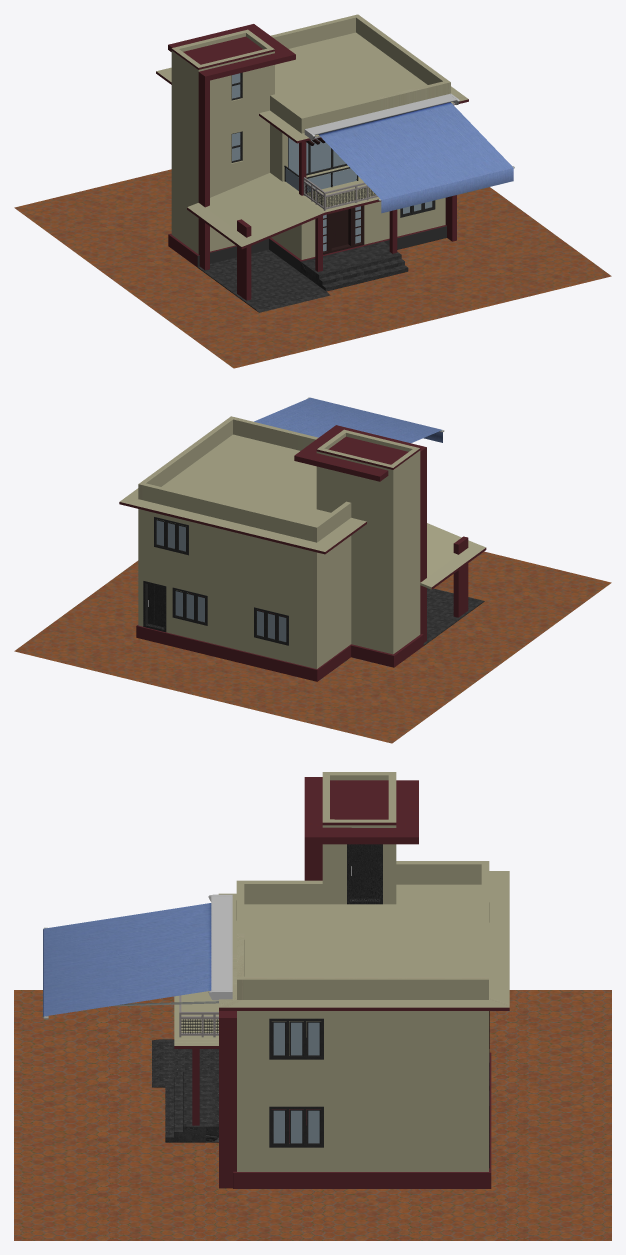
Rendered from iot2-transformed.glb.
3 renders of one model, top to bottom at view 1: azimuth 30°, elevation 25°; view 2: azimuth 150°, elevation 25°; view 3: azimuth 270°, elevation 25°, orthographic. The views are drawn at different scales.
Visible parts, largest first — view 1: Plane_landscape tiles_0, Plane.008_wall paint_0, Object_2, shade 02_shades brown_0, Cube.047_ floor Ceramic Black Tiles _0, Cube.046_ floor Ceramic Black Tiles _0, Plane.008_shades brown_0, Cube.045_ floor Ceramic Black Tiles _0, Cube.064_Multicoated glass_0, piller 1_shades brown_0, Cube.045_shades brown_0, Cube.044_hand railBrushed stainless steel_0 (+3 smaller); view 2: Plane.008_wall paint_0, Plane_landscape tiles_0, shade 02_shades brown_0, Object_2, Cube.045_shades brown_0, Cube.047_ floor Ceramic Black Tiles _0, Plane.008_shades brown_0, piller 1_shades brown_0, Cube.054_window Brushed Dark Metal_0, Cube.076_Multicoated glass_0, Cube.080_Multicoated glass_0, Cube.078_Multicoated glass_0 (+1 smaller); view 3: Plane_landscape tiles_0, Plane.008_wall paint_0, Object_2, shade 02_shades brown_0, Cube.045_shades brown_0, Cube.046_ floor Ceramic Black Tiles _0, shade 01_shades brown_0, Plane.008_shades brown_0, Cube.047_ floor Ceramic Black Tiles _0, Cube.002_window Brushed Dark Metal_0, Cube.071_Multicoated glass_0, Cube.073_Multicoated glass_0 (+4 smaller).
Part boxes in pixels (x1=…): Plane_landscape tiles_0: x1=14, y1=169, x2=611, y2=368; Plane.008_wall paint_0: x1=156, y1=14, x2=468, y2=259; Object_2: x1=304, y1=93, x2=514, y2=213; shade 02_shades brown_0: x1=168, y1=24, x2=295, y2=270; Cube.047_ floor Ceramic Black Tiles _0: x1=197, y1=249, x2=330, y2=312; Cube.046_ floor Ceramic Black Tiles _0: x1=300, y1=241, x2=408, y2=291; Plane.008_shades brown_0: x1=156, y1=48, x2=468, y2=271; Cube.045_ floor Ceramic Black Tiles _0: x1=197, y1=226, x2=446, y2=272; Cube.064_Multicoated glass_0: x1=288, y1=138, x2=346, y2=175; piller 1_shades brown_0: x1=237, y1=219, x2=251, y2=300; Cube.045_shades brown_0: x1=168, y1=225, x2=446, y2=267; Cube.044_hand railBrushed stainless steel_0: x1=303, y1=177, x2=377, y2=210; Plane.008_wall paint_0: x1=119, y1=416, x2=485, y2=668; Plane_landscape tiles_0: x1=14, y1=551, x2=611, y2=743; shade 02_shades brown_0: x1=294, y1=425, x2=426, y2=642; Object_2: x1=254, y1=397, x2=444, y2=443; Cube.045_shades brown_0: x1=136, y1=593, x2=423, y2=681; Cube.047_ floor Ceramic Black Tiles _0: x1=423, y1=588, x2=484, y2=645; Plane.008_shades brown_0: x1=119, y1=448, x2=486, y2=589; piller 1_shades brown_0: x1=453, y1=536, x2=468, y2=617; Cube.054_window Brushed Dark Metal_0: x1=148, y1=584, x2=164, y2=627; Cube.076_Multicoated glass_0: x1=175, y1=591, x2=204, y2=622; Cube.080_Multicoated glass_0: x1=156, y1=520, x2=185, y2=551; Cube.078_Multicoated glass_0: x1=257, y1=611, x2=286, y2=641; Plane_landscape tiles_0: x1=14, y1=990, x2=611, y2=1240; Plane.008_wall paint_0: x1=174, y1=772, x2=509, y2=1171; Object_2: x1=43, y1=894, x2=232, y2=1019; shade 02_shades brown_0: x1=304, y1=777, x2=418, y2=880; Cube.045_shades brown_0: x1=233, y1=1052, x2=491, y2=1188; Cube.046_ floor Ceramic Black Tiles _0: x1=165, y1=1071, x2=218, y2=1142; shade 01_shades brown_0: x1=219, y1=1011, x2=236, y2=1188; Plane.008_shades brown_0: x1=174, y1=822, x2=509, y2=1125; Cube.047_ floor Ceramic Black Tiles _0: x1=152, y1=1039, x2=218, y2=1087; Cube.002_window Brushed Dark Metal_0: x1=350, y1=844, x2=379, y2=898; Cube.071_Multicoated glass_0: x1=273, y1=1022, x2=319, y2=1055; Cube.073_Multicoated glass_0: x1=273, y1=1110, x2=319, y2=1143.
Bounding box in the file's own units: 19.82 × 9.94 × 19.96.
Materials: 6 (6 with a texture image).
